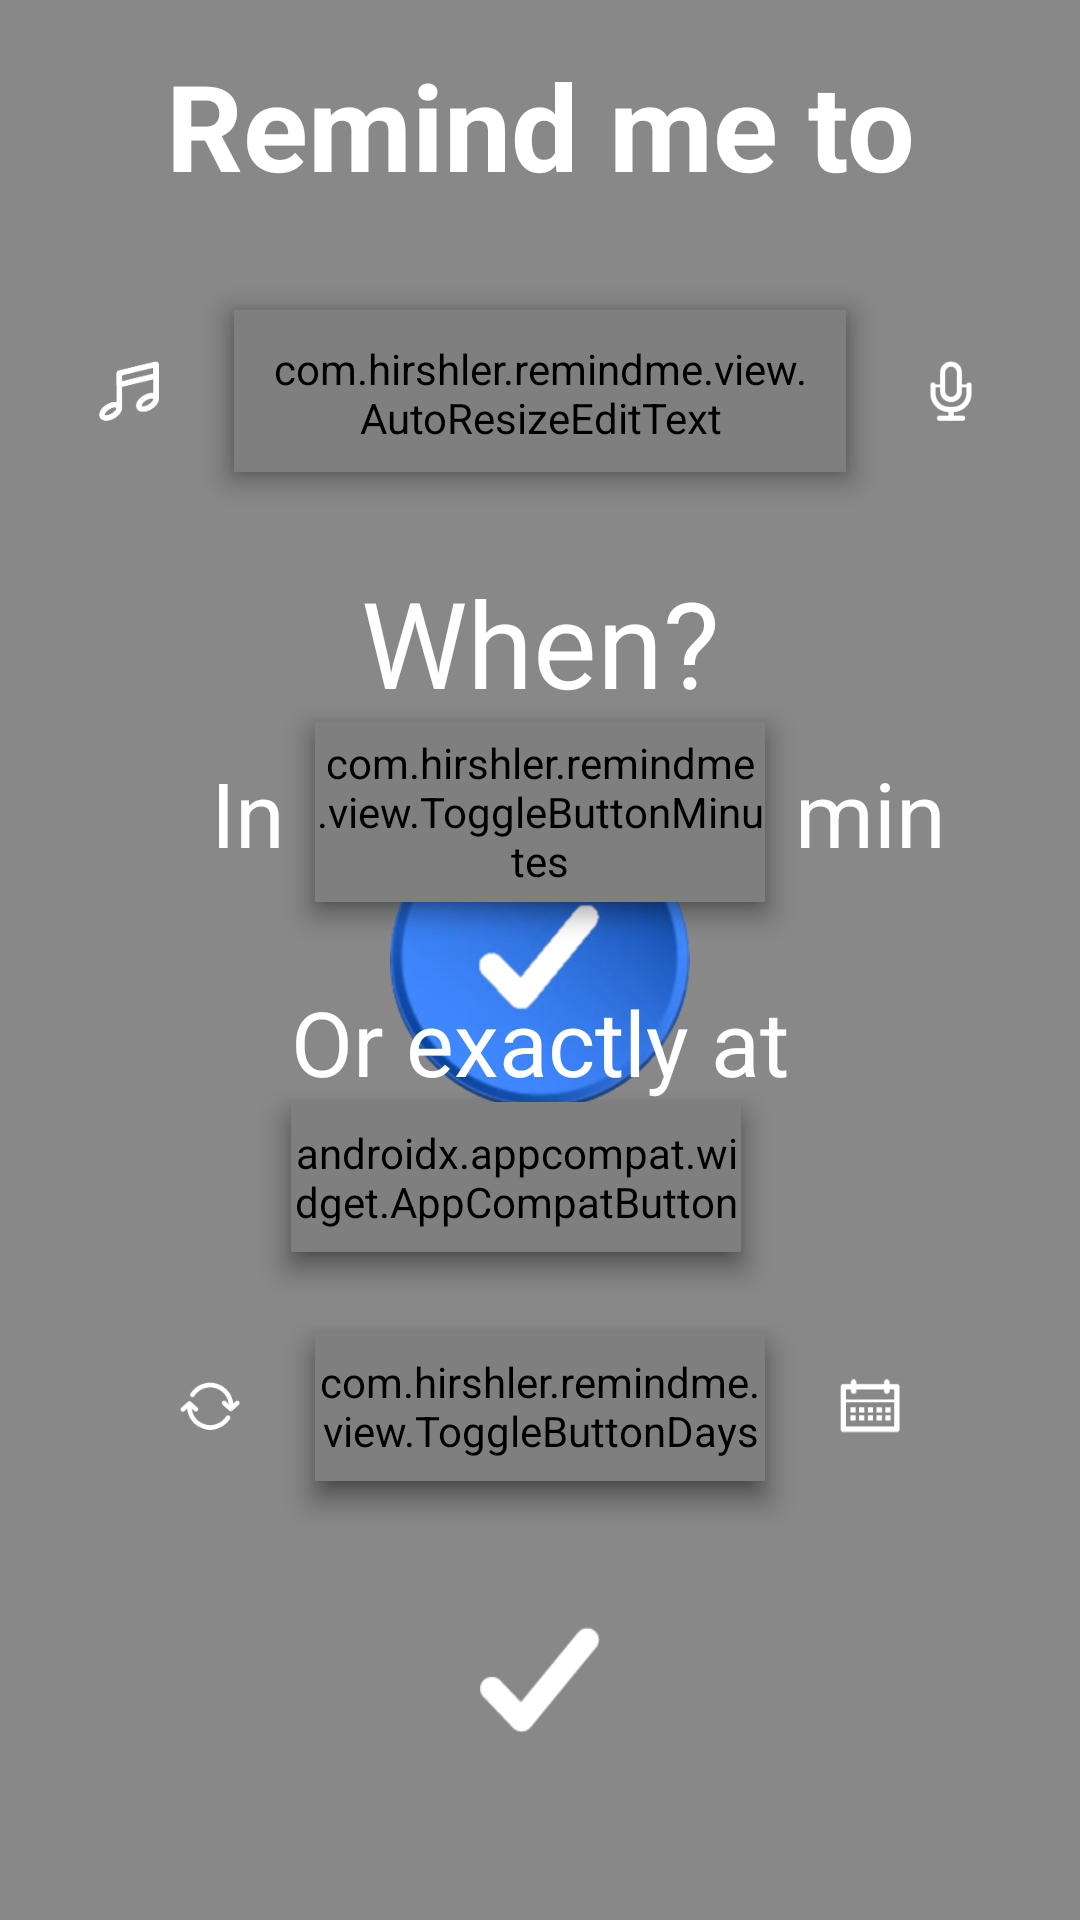

Named icons in this screenshot (1080×1920) and their bounding boxes, bbox(x1, y1, x2, y2):
calendar: bbox(840, 1379, 900, 1433)
record: bbox(930, 361, 972, 421)
repeat: bbox(180, 1382, 240, 1430)
ringtone: bbox(99, 361, 159, 421)
